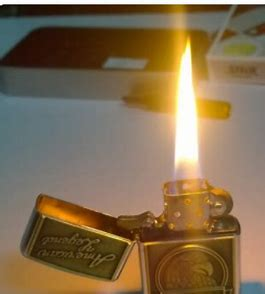Fire: (157, 34, 214, 181)
